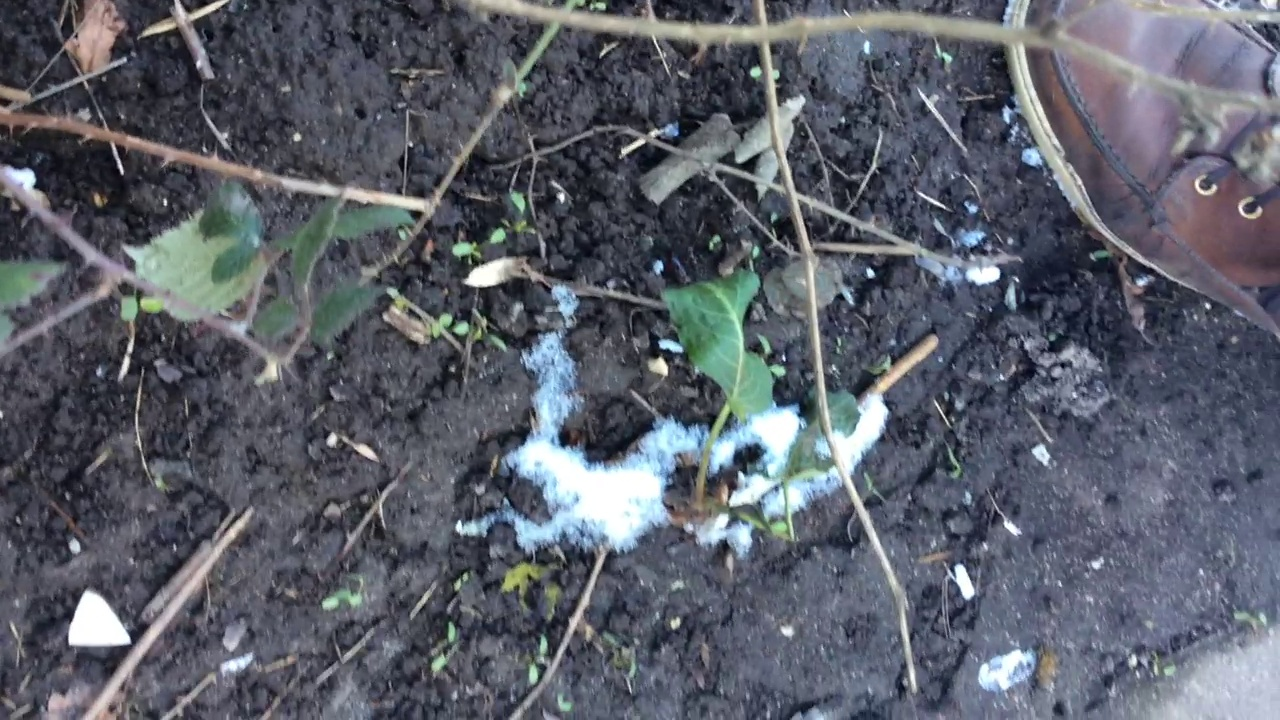root: (675, 484, 739, 531)
rumex: (656, 261, 862, 551)
